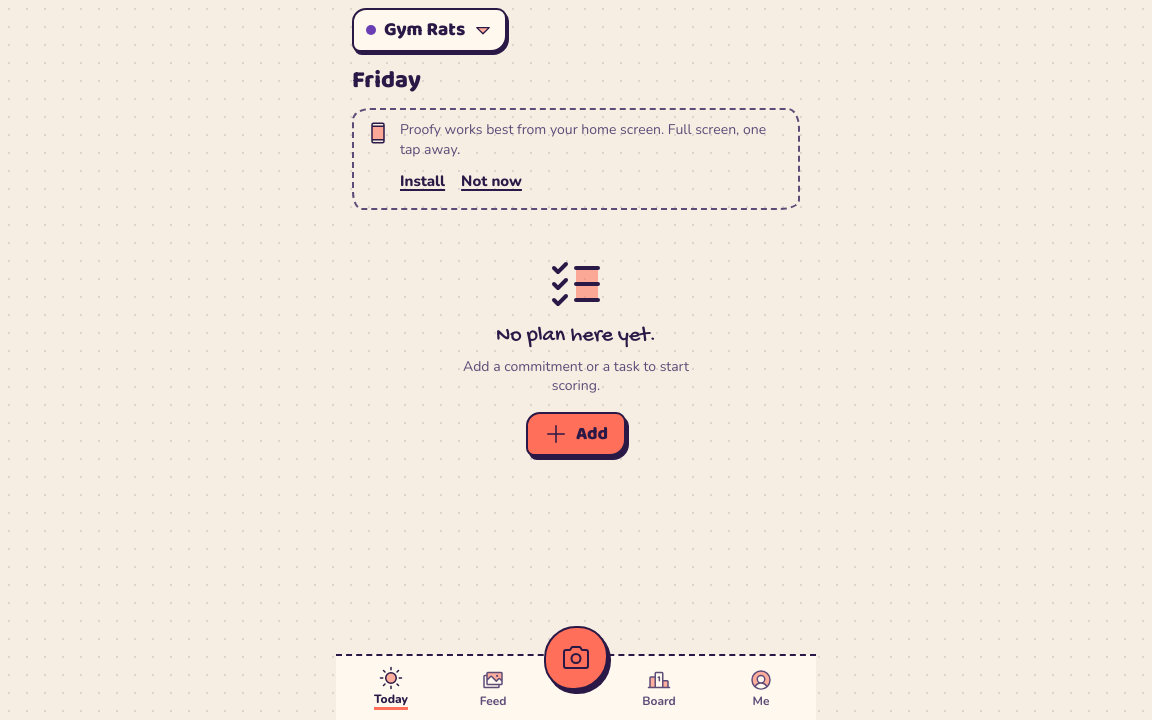
Scenario: Winner card, shown once (Story 4.5) › leaves an open sheet alone and opens on the next screen change
Click the button with aria-label "Add a commitment or task": (576, 434) 526,412 -> 626,456
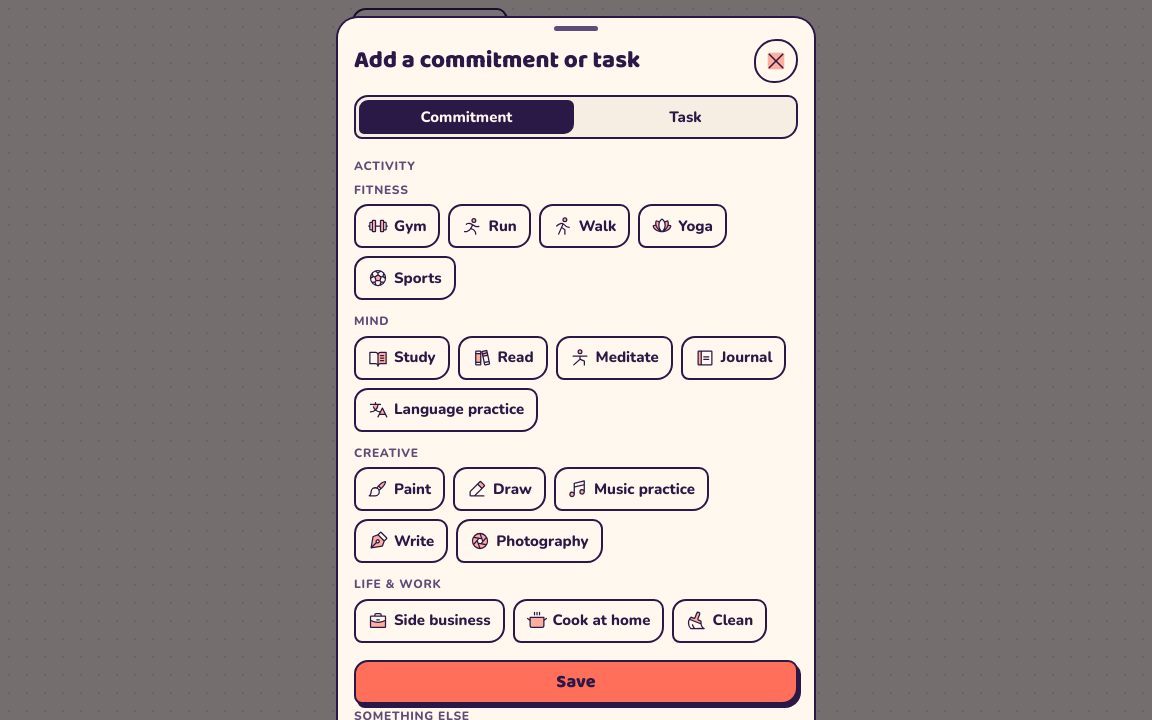
Expected: the dialog "Last week's winner" is not shown
Expected: the dialog "Add a commitment or task" is shown, 336,16 -> 816,719
Click the button named "Close": (776, 61) 754,39 -> 798,83
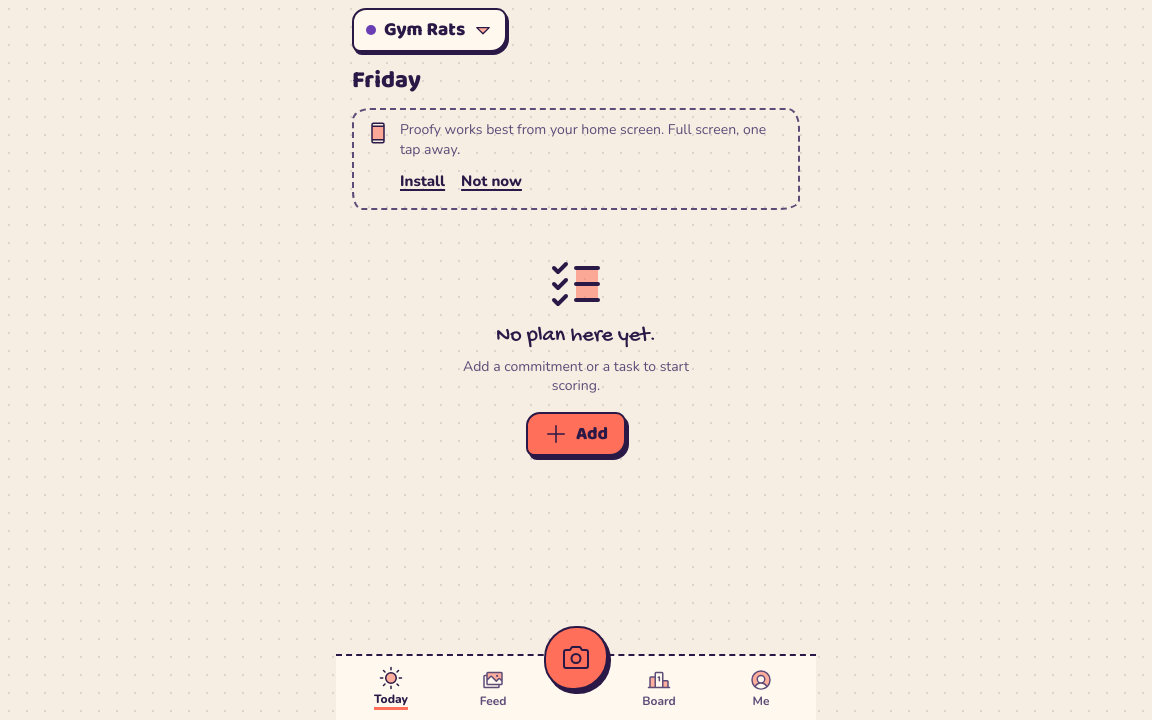
Expected: the dialog is gone
Click the link "Feed": (493, 688) 480,668 -> 506,709
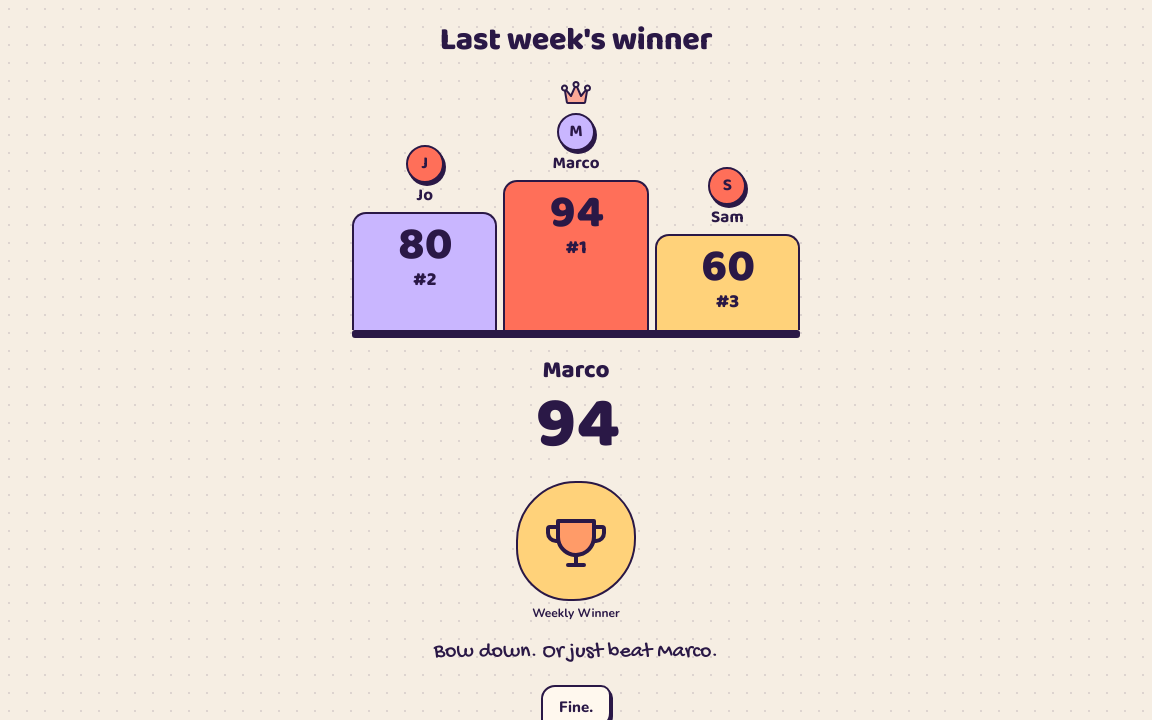
Expected: the dialog named "Last week's winners?" is shown
